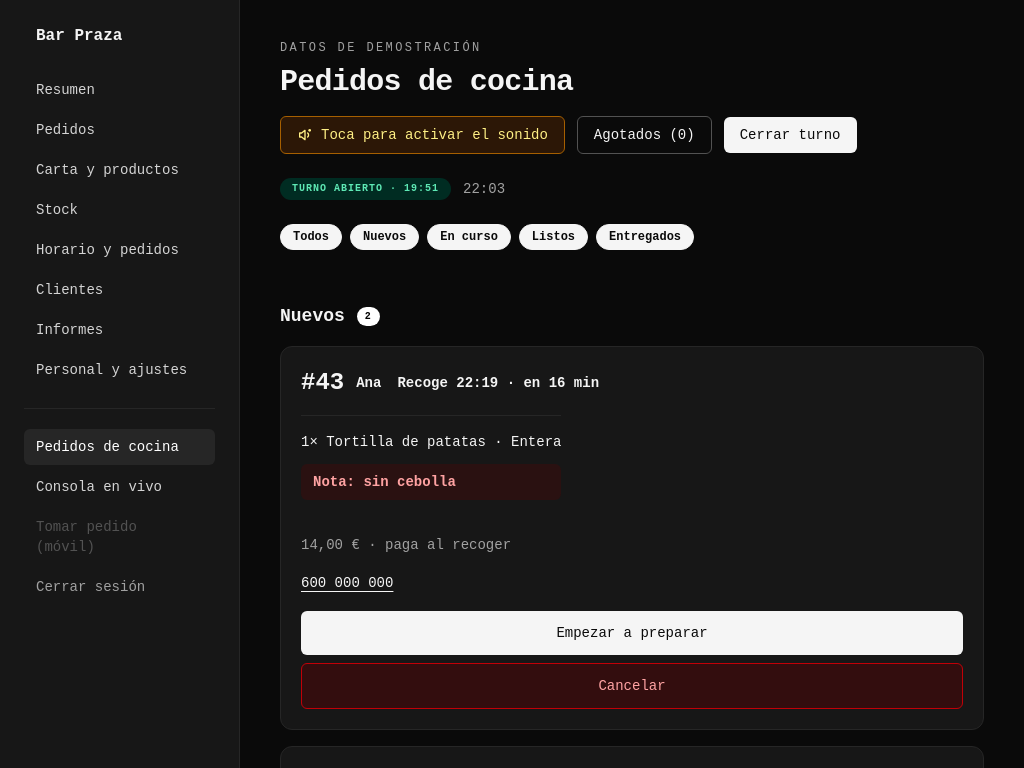
Agotados pop-up › says so when nothing is sold out
Click the button "Agotados (0)" at coordinates (644, 135), box [577,116,712,154]
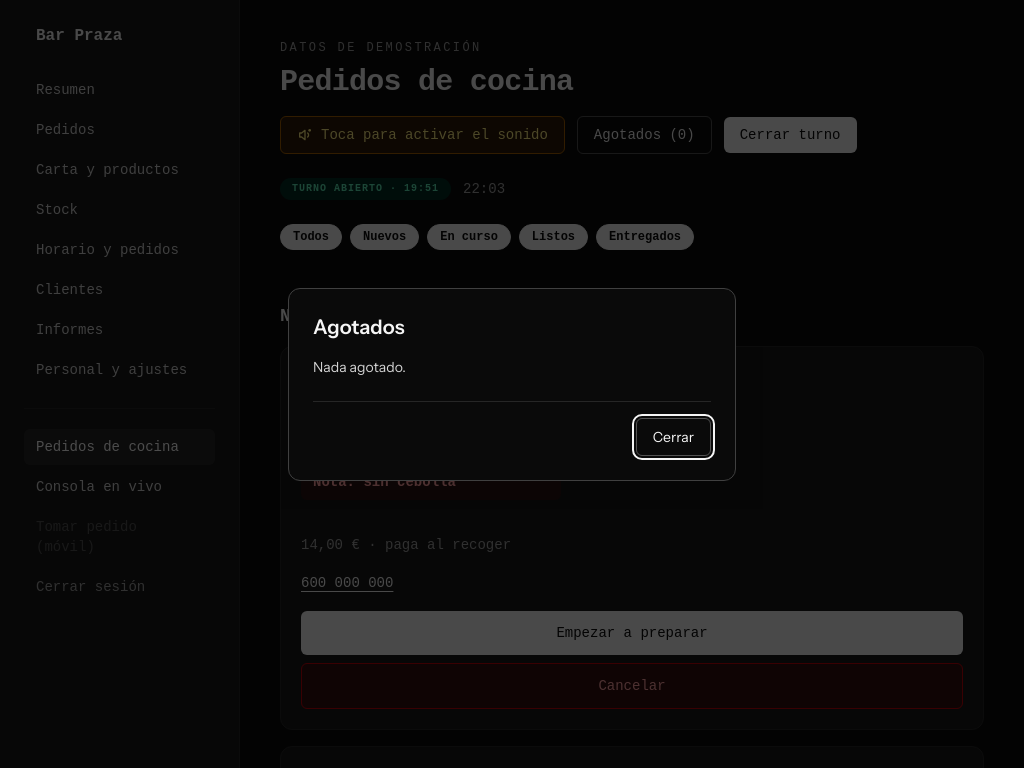
Expected: the text "Nada agotado." is shown, [313,358,406,376]
